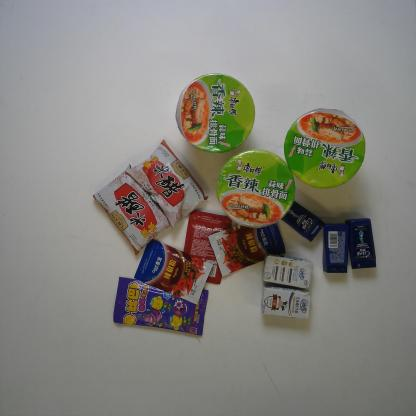Candy: (114, 275, 209, 337)
Instant Noodles: (284, 109, 364, 187), (176, 74, 256, 152), (217, 150, 296, 228)
Milk: (263, 254, 313, 291), (260, 286, 312, 320)
Personal Hygiene: (279, 202, 325, 241), (346, 218, 376, 270), (322, 223, 349, 274)
Seasoner: (125, 140, 209, 228), (92, 163, 173, 254), (134, 238, 214, 304), (206, 218, 286, 276), (178, 210, 232, 285)
